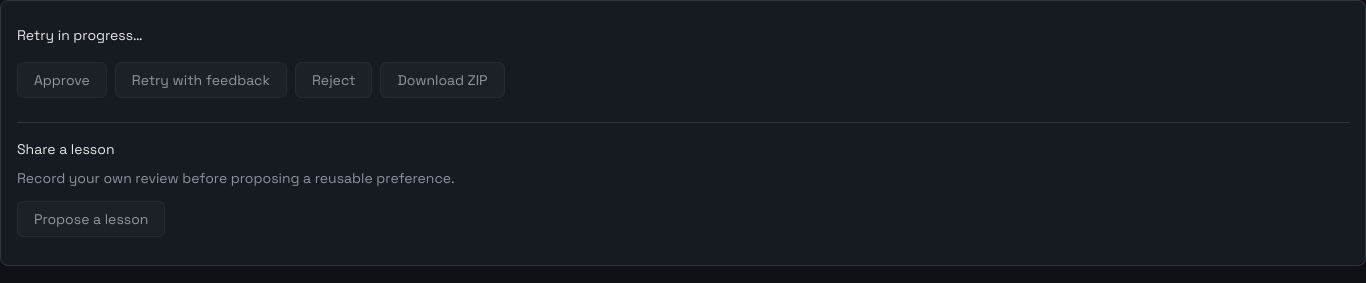
it: FR-UI-07 retained retry lock explains unavailable Retry with feedback
Hover over the element "Retry with feedback" at (201, 80), box [115,62,287,98]
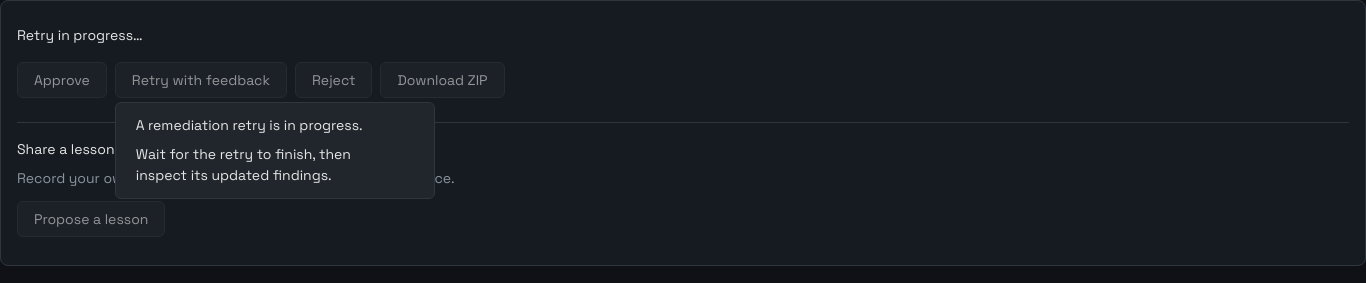
Expected: the element with class "action-gate-help" is shown, [115,102,435,199]
Move the pointer off the element "Retry with feedback", box [115,62,287,98]
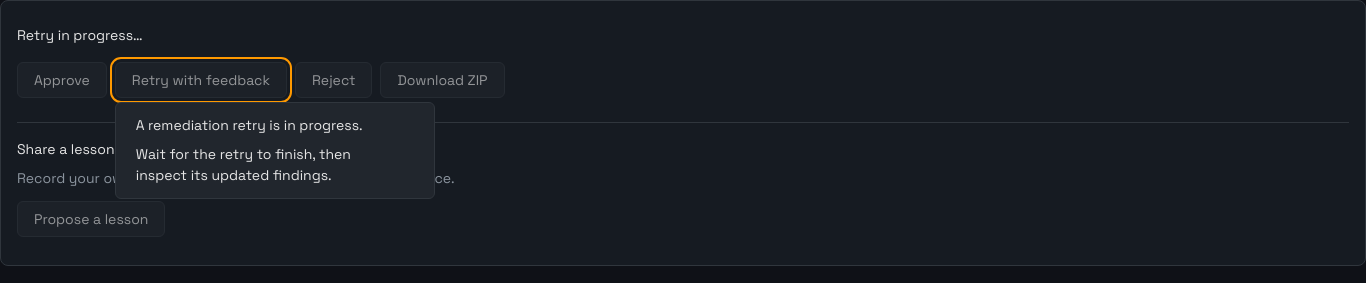
Expected: the element with class "action-gate-help" is shown, [115,102,435,199]
Press Escape in the element "Retry with feedback", box [115,62,287,98]
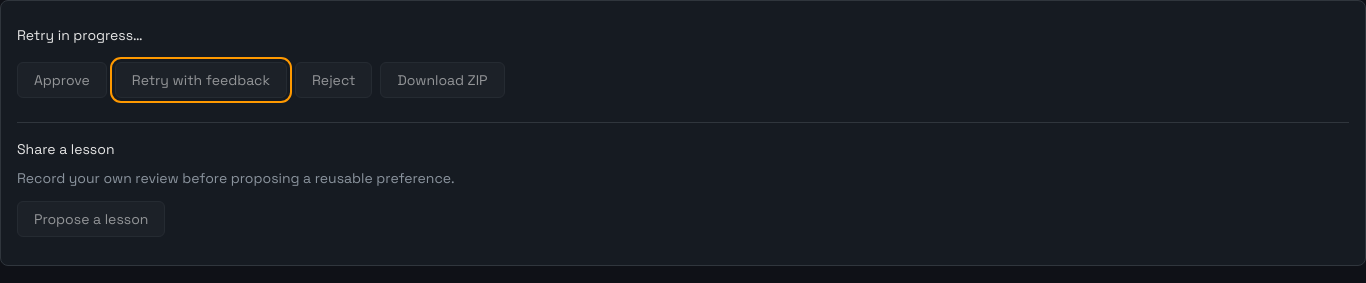
Click the element "Retry with feedback". click: (201, 80)
box: [115,62,287,98]
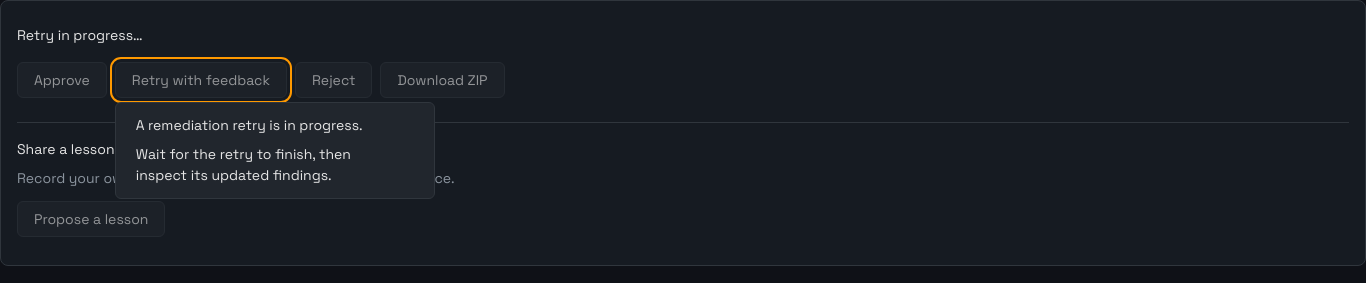
Expected: the element with class "action-gate-help" is shown, [115,102,435,199]
